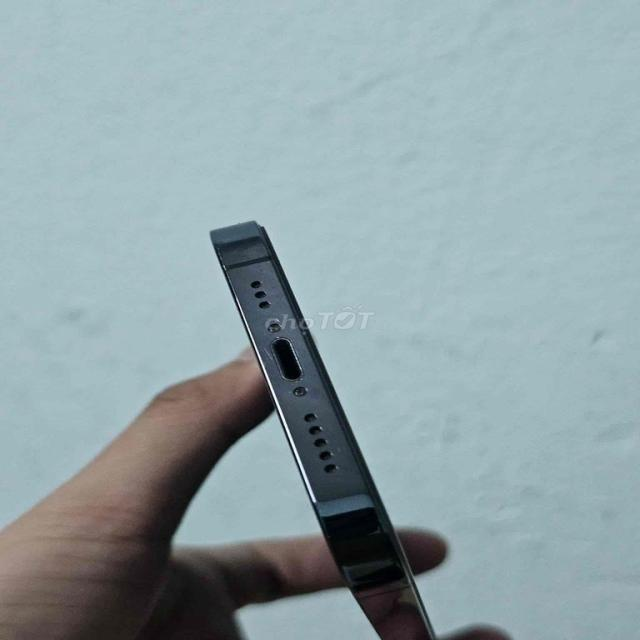scratch: (249, 326, 291, 379)
